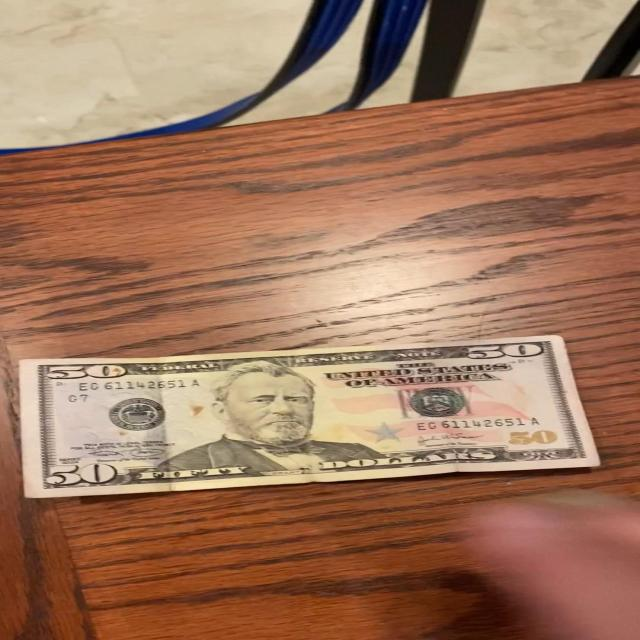50-Front: (12, 333, 603, 503)
